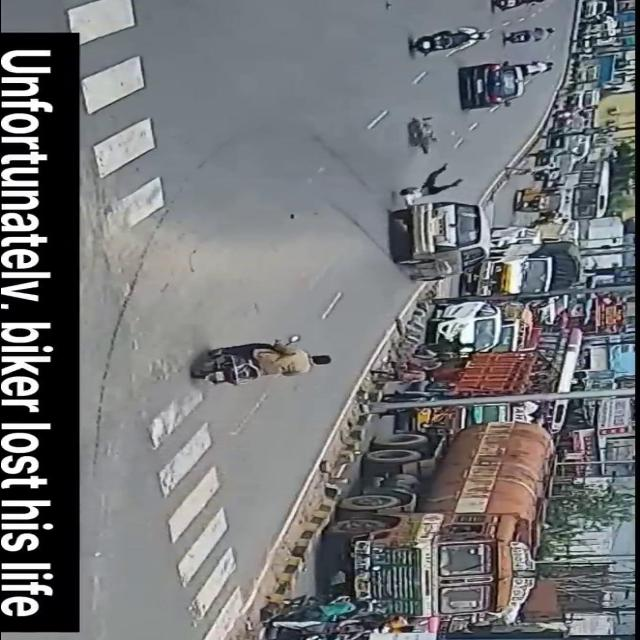accident: (378, 160, 501, 292), (402, 94, 457, 160)
non_accident: (260, 416, 561, 640), (381, 299, 587, 416), (525, 0, 640, 209), (457, 209, 595, 295)
